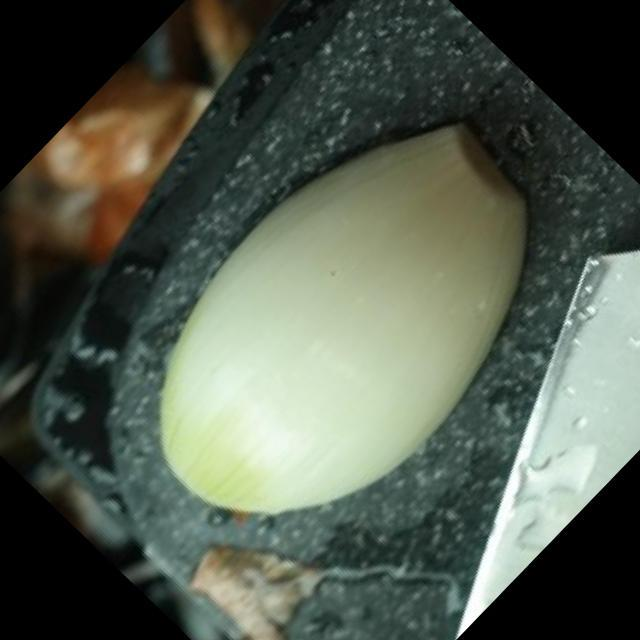Onion: (158, 125, 523, 514)
